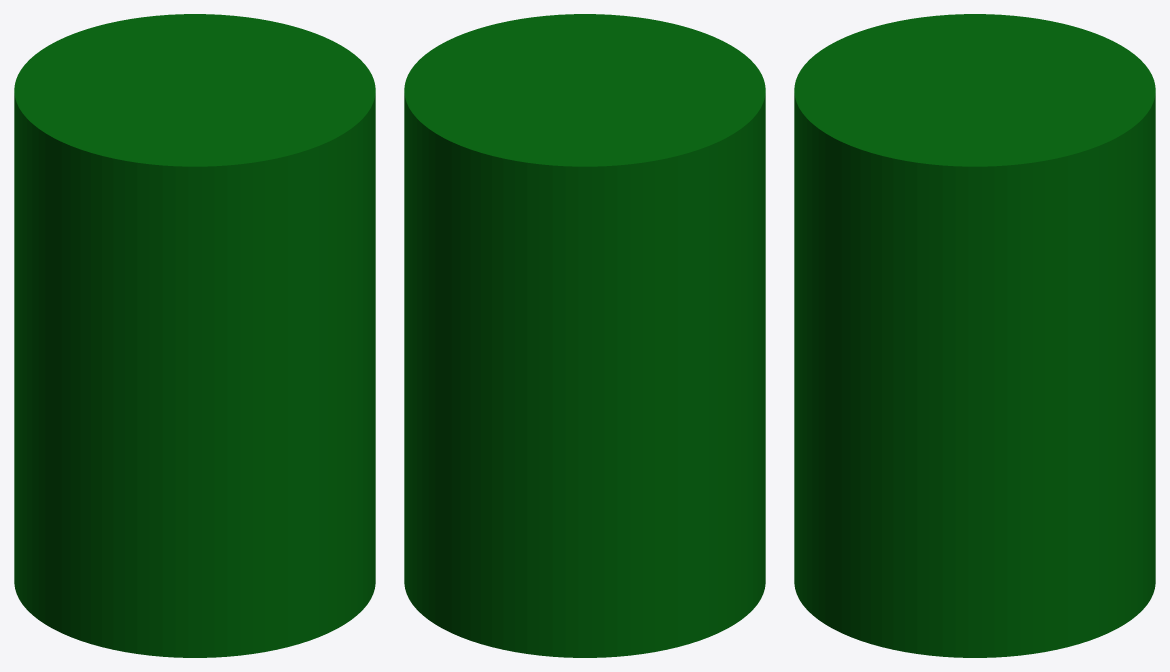
File: TopCylinder.dae
3 renders of one model, left to right at view 1: azimuth 30°, elevation 25°; view 2: azimuth 150°, elevation 25°; view 3: azimuth 270°, elevation 25°, orthographic.
Parts seen in each view (by area): view 1: node; view 2: node; view 3: node.
Boxes of the visible parts, left/top/right/bottom form: node: left=14, top=14, right=375, bottom=657; node: left=404, top=14, right=765, bottom=657; node: left=794, top=14, right=1155, bottom=657.
Size of the model in its own units: 0.03 by 0.03 by 0.045.
